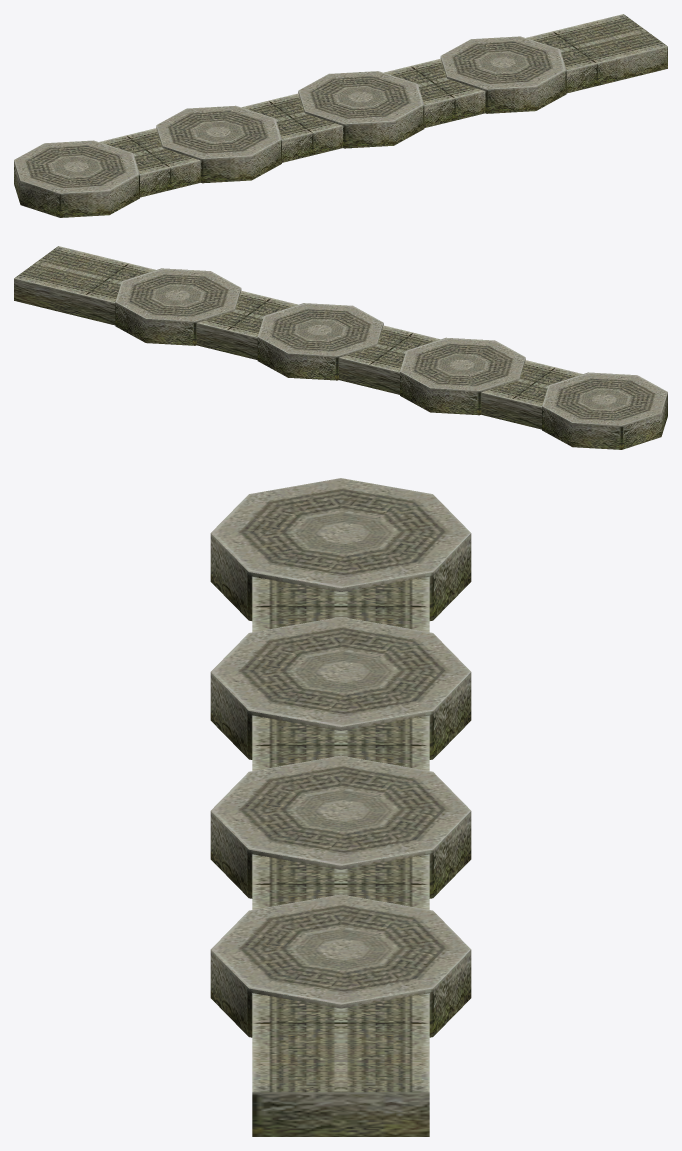
File: secret_boundary_ston_02.fbx
3 views of the same model, one above another, from view 1: azimuth 30°, elevation 25°; view 2: azimuth 150°, elevation 25°; view 3: azimuth 270°, elevation 25° (orthographic). The views are drawn at different scales.
Parts seen in each view (by area): view 1: secret_boundary ston_02; view 2: secret_boundary ston_02; view 3: secret_boundary ston_02.
Boxes of the visible parts, x1,y1,x2,y2 form: secret_boundary ston_02: (14,14,667,217); secret_boundary ston_02: (14,246,667,449); secret_boundary ston_02: (210,478,471,1136).
Bounding box in the file's own units: 8.79 × 0.3266 × 1.59.
